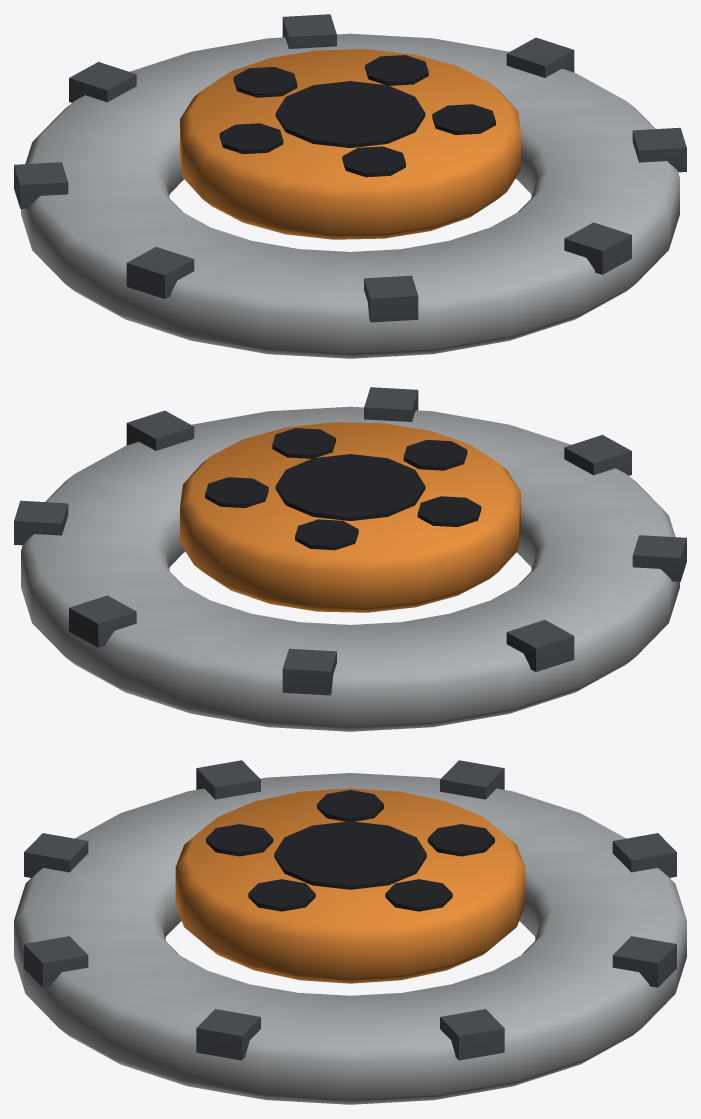
Rendered from SM_BrakeRotor_01.glb.
3 renders of one model, top to bottom at view 1: azimuth 30°, elevation 25°; view 2: azimuth 150°, elevation 25°; view 3: azimuth 270°, elevation 25°, orthographic. The views are drawn at different scales.
Visible parts, largest first — view 1: SM_BrakeRotor_01; view 2: SM_BrakeRotor_01; view 3: SM_BrakeRotor_01.
Part boxes in pixels (<box>): SM_BrakeRotor_01: <box>14,14,686,358</box>; SM_BrakeRotor_01: <box>14,387,686,731</box>; SM_BrakeRotor_01: <box>14,760,686,1104</box>.
Size of the model in its own units: 0.3 by 0.056 by 0.3.
1 material, 1 textured.
